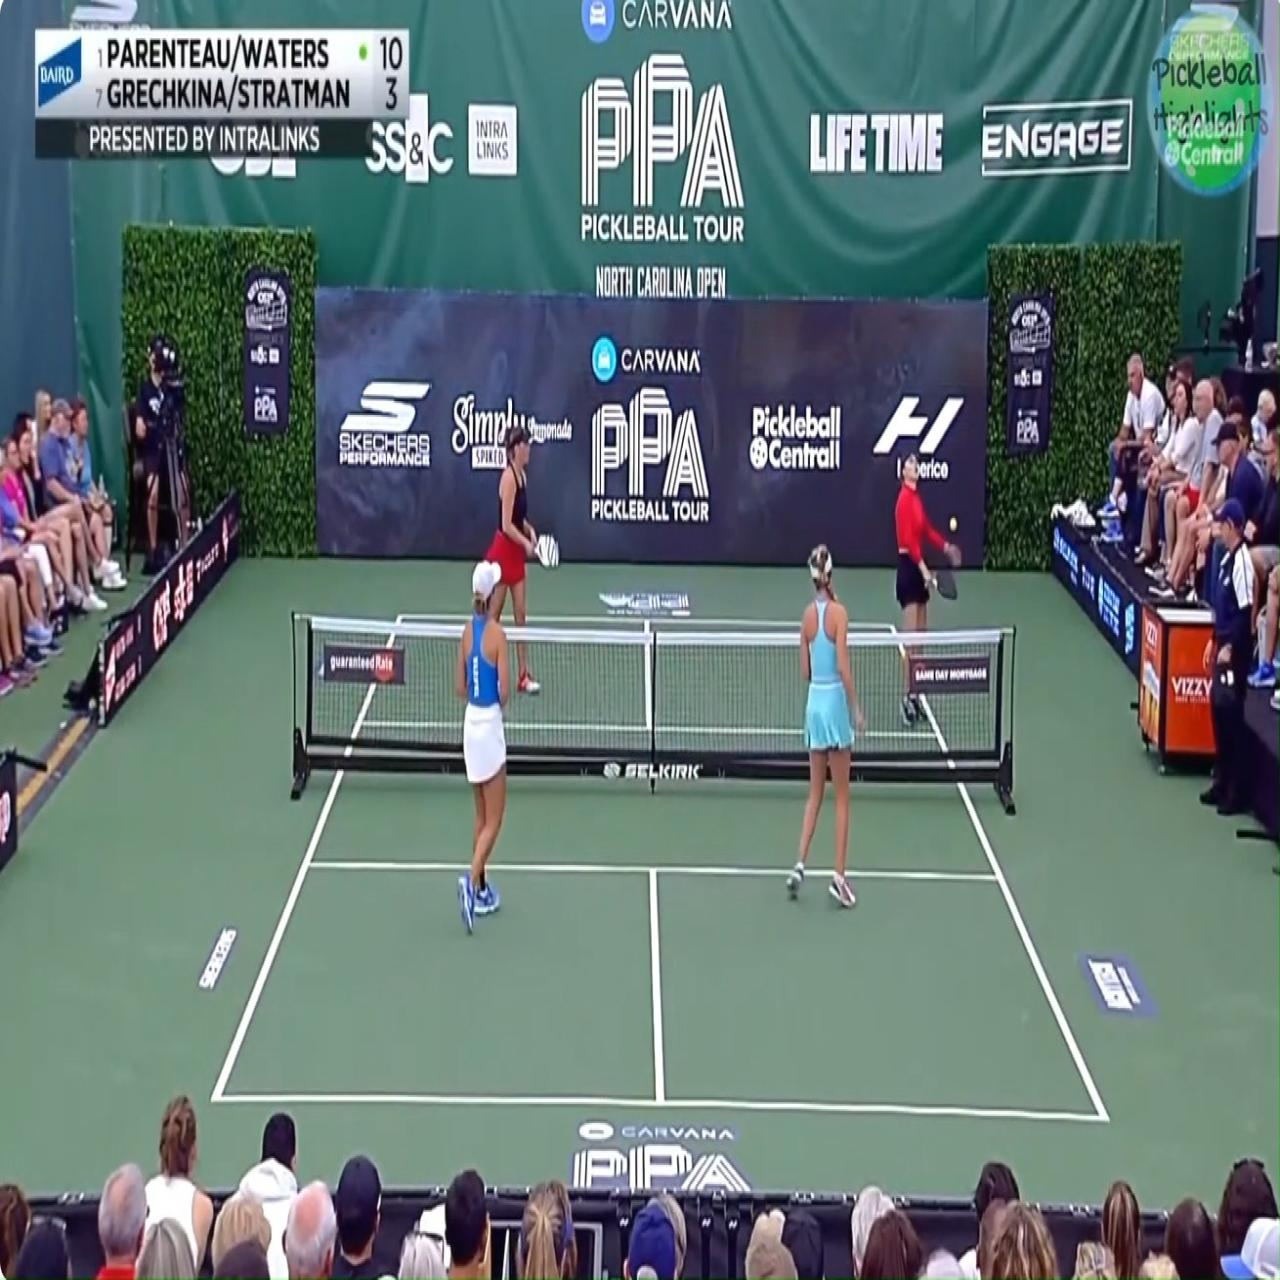pickleball: (948, 516, 959, 533)
